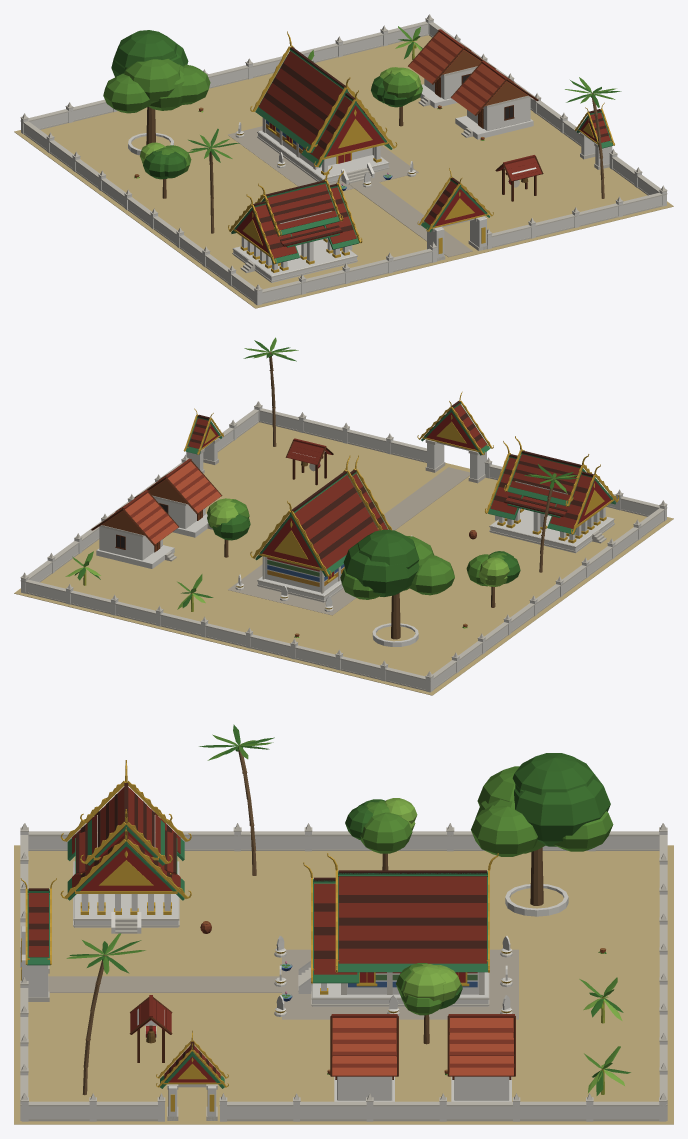
File: temple_1.glb
3 renders of one model, top to bottom at view 1: azimuth 30°, elevation 25°; view 2: azimuth 150°, elevation 25°; view 3: azimuth 270°, elevation 25°, orthographic. The views are drawn at different scales.
Visible parts, largest first — view 1: body; view 2: body; view 3: body.
Part boxes in pixels (box(x1,y1,x2,y2)): body: box(14, 14, 673, 308); body: box(14, 337, 673, 695); body: box(14, 724, 673, 1124).
Size of the model in its own units: 47.9 by 12.15 by 47.9.
